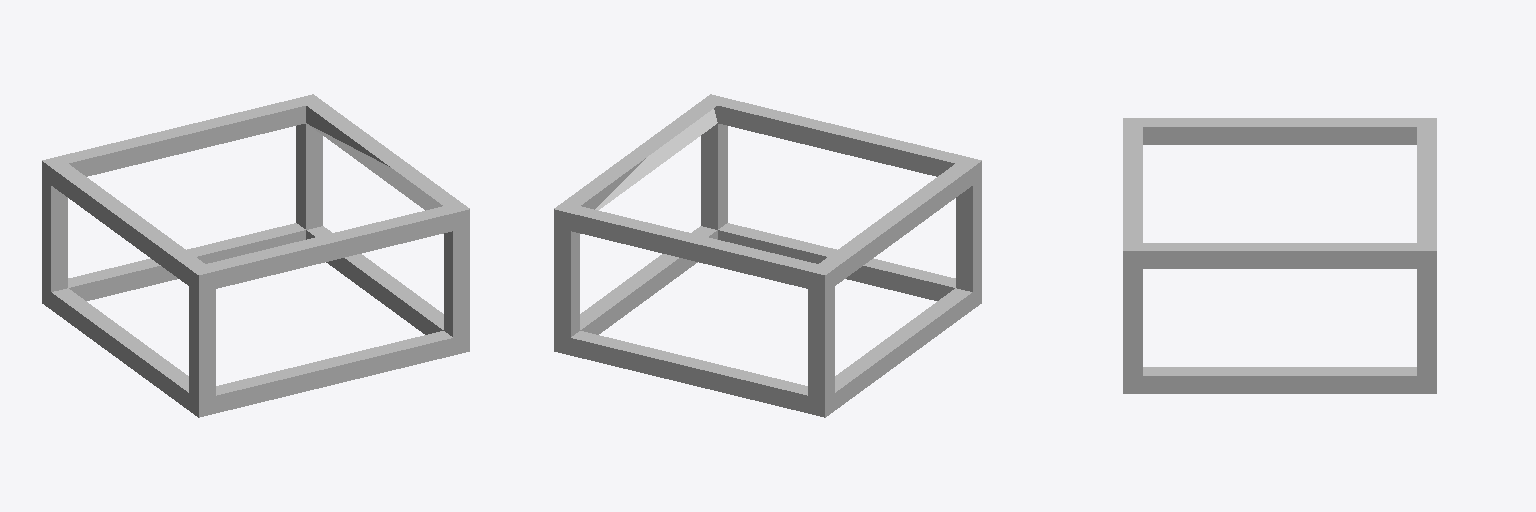
The model's file is delete_indicator.obj.
The picture shows the model from 3 angles: view 1: azimuth 30°, elevation 25°; view 2: azimuth 150°, elevation 25°; view 3: azimuth 270°, elevation 25°; orthographic projection.
Parts seen in each view (by area): view 1: Cube; view 2: Cube; view 3: Cube.
Boxes of the visible parts, box(x1,y1,x2,y2) form: Cube: box(42, 94, 469, 417); Cube: box(554, 94, 981, 417); Cube: box(1123, 118, 1436, 393).
Size of the model in its own units: 2 by 1 by 2.